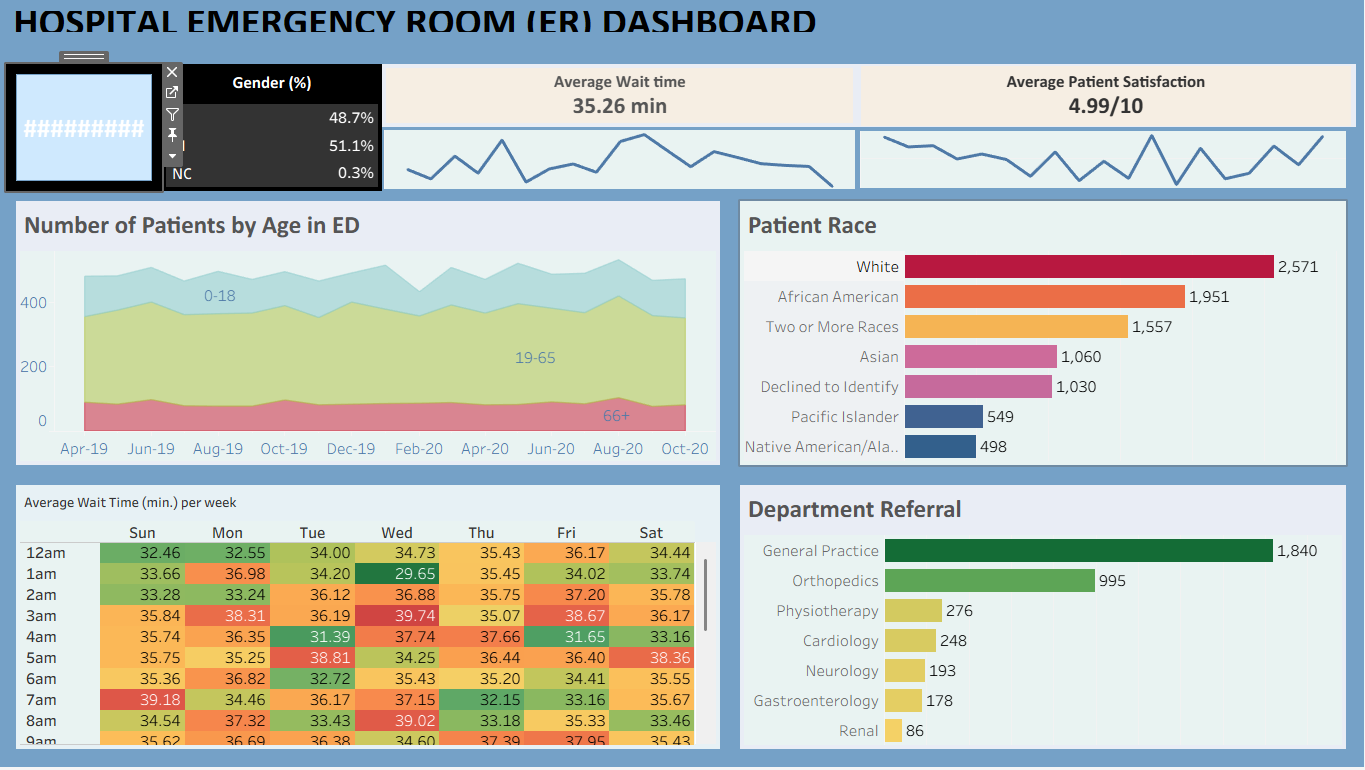

The dashboard page shown, as its layout file describes it:
{"tool":"tableau","page":{"name":"HOSPITAL ER DASHBOARD","canvas":[1366,768],"ordinal":0},"visuals":[{"type":"text","box":[8,8,1350,28.5]},{"type":"worksheet","title":"#PtvisitED","mark":"Automatic","box":[8,65,156,127]},{"type":"worksheet","title":"Gender","mark":"Automatic","rows":["patient_gender"],"box":[164,65,220,127]},{"type":"worksheet","title":"Avg Waitime","mark":"Automatic","box":[384,65,475,63.5]},{"type":"worksheet","title":"Avg Sat","mark":"Automatic","box":[859,65,499,63.5]},{"type":"worksheet","title":"Waittime Avg","mark":"Automatic","rows":["patient_waittime"],"cols":["date"],"box":[384,128.5,475,63.5]},{"type":"worksheet","title":"Patient Satisfaction","mark":"Automatic","rows":["patient_sat_score"],"cols":["date"],"box":[859,128.5,499,63.5]},{"type":"worksheet","title":"# of Pts  by Age","mark":"Area","rows":["patient_id"],"cols":["date"],"box":[18,202,704,264]},{"type":"worksheet","title":"Patient Race","mark":"Automatic","rows":["patient_race"],"cols":["patient_id"],"box":[742,202,606,264]},{"type":"worksheet","title":"Heatmap","mark":"Square","rows":["date"],"cols":["date"],"box":[18,486,704,264]},{"type":"worksheet","title":"Dept Referral","mark":"Automatic","rows":["department_referral"],"cols":["patient_id"],"box":[742,486,606,264]}]}

Visuals, with their boxes in screenshot pixels (x1, y1, x2, y2), scaled from the page's 1366x768 canvas onto the 1365x770 screenshot:
text: box(8, 8, 1357, 37)
"#PtvisitED" worksheet: box(8, 65, 164, 192)
"Gender" worksheet: box(164, 65, 384, 192)
"Avg Waitime" worksheet: box(384, 65, 858, 129)
"Avg Sat" worksheet: box(858, 65, 1357, 129)
"Waittime Avg" worksheet: box(384, 129, 858, 192)
"Patient Satisfaction" worksheet: box(858, 129, 1357, 192)
"# of Pts  by Age" worksheet (Area marks): box(18, 203, 721, 467)
"Patient Race" worksheet: box(741, 203, 1347, 467)
"Heatmap" worksheet (Square marks): box(18, 487, 721, 752)
"Dept Referral" worksheet: box(741, 487, 1347, 752)
